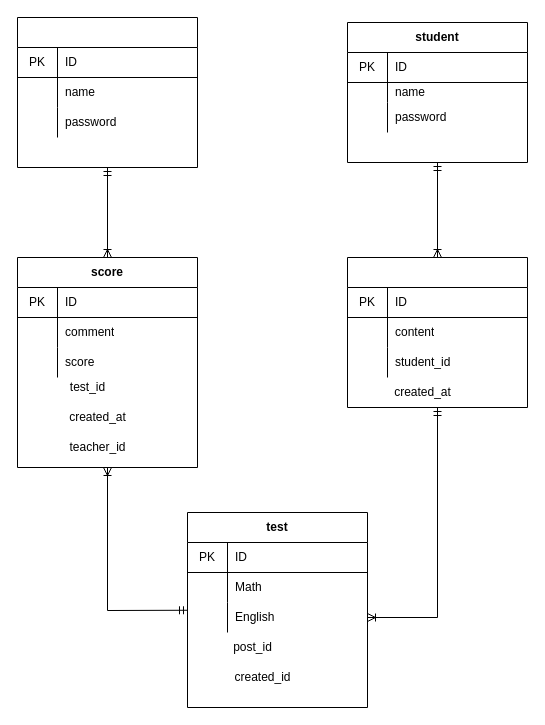
This 545x725 diagram has some shape labels left out. Here are the shapes that lost their labels. From the top down, the box of each, then its label:
(16, 16, 198, 168): teacher
(346, 256, 528, 408): post
